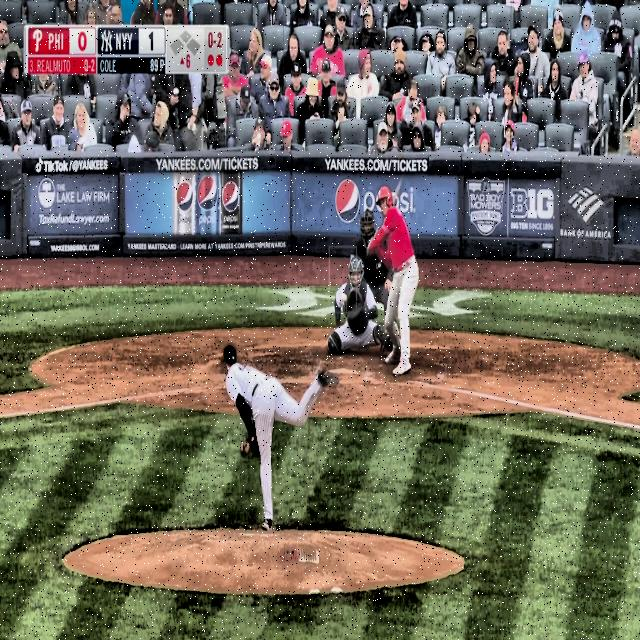baseball: (342, 293, 347, 302)
